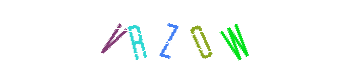O: (169, 0, 249, 80)
R: (109, 0, 189, 80)
V: (73, 0, 153, 80)
W: (195, 0, 275, 80)
Z: (137, 0, 217, 80)
